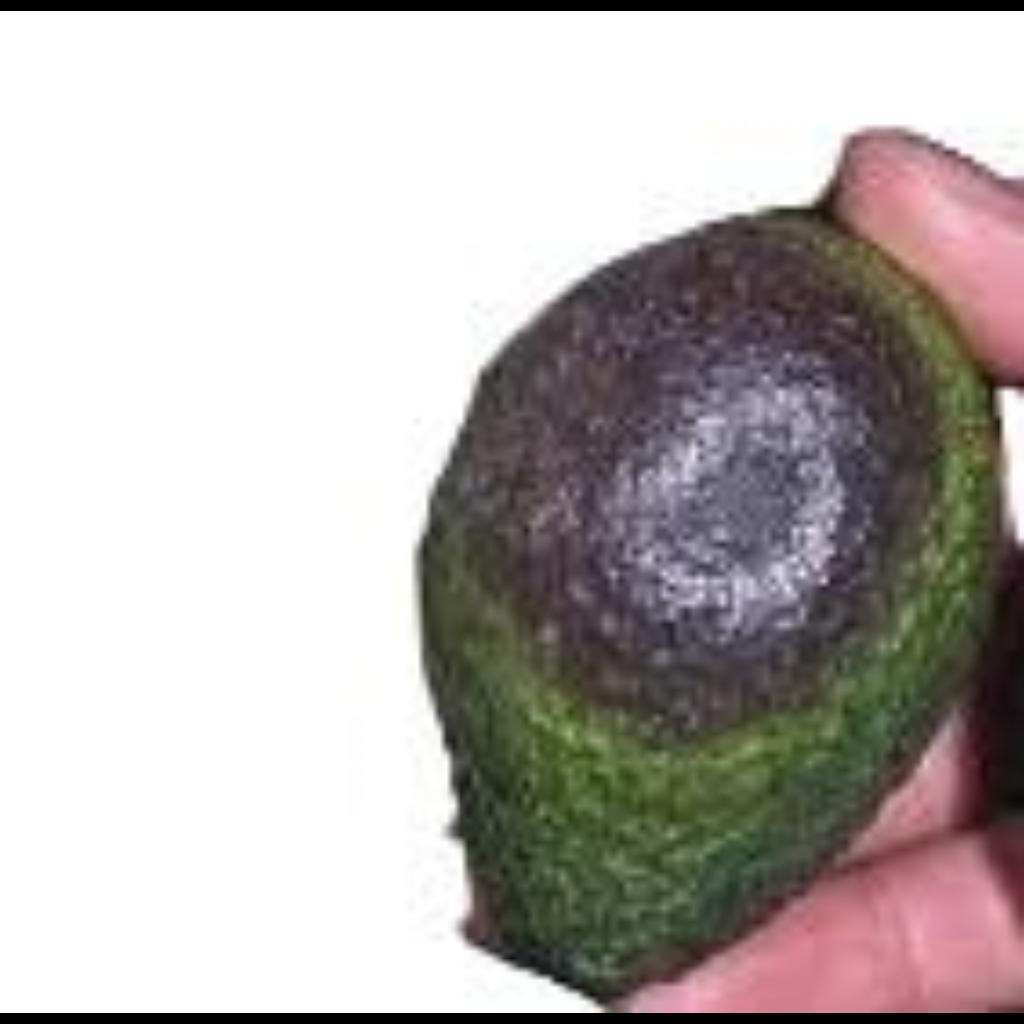antracnosis_fruto: (447, 192, 955, 853)
